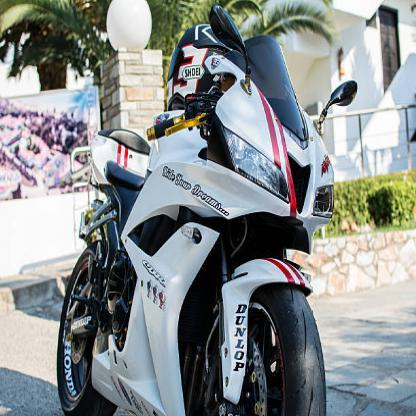Motorcycle: (56, 3, 362, 415)
